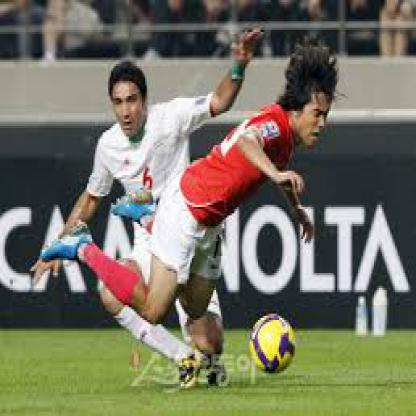Fall_Down: (37, 40, 342, 331)
